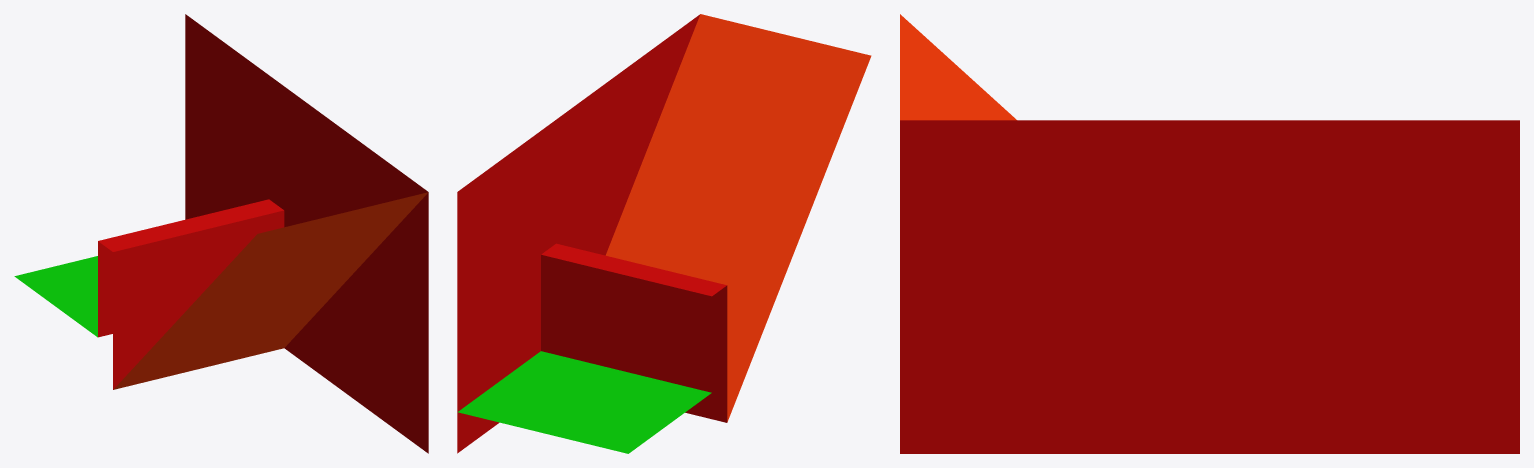
3 views of the same model, side by side, from view 1: azimuth 30°, elevation 25°; view 2: azimuth 150°, elevation 25°; view 3: azimuth 270°, elevation 25° (orthographic). The views are drawn at different scales.
Visible parts, largest first — view 1: None_A_A_A_A_W_S_E_E_None; view 2: None_A_A_A_A_W_S_E_E_None; view 3: None_A_A_A_A_W_S_E_E_None.
Part boxes in pixels (x1,y1,x2,y2): None_A_A_A_A_W_S_E_E_None: (14, 14, 428, 453); None_A_A_A_A_W_S_E_E_None: (457, 14, 871, 453); None_A_A_A_A_W_S_E_E_None: (900, 14, 1519, 453).
Bounding box in the file's own units: 40.62 × 59.38 × 100.
